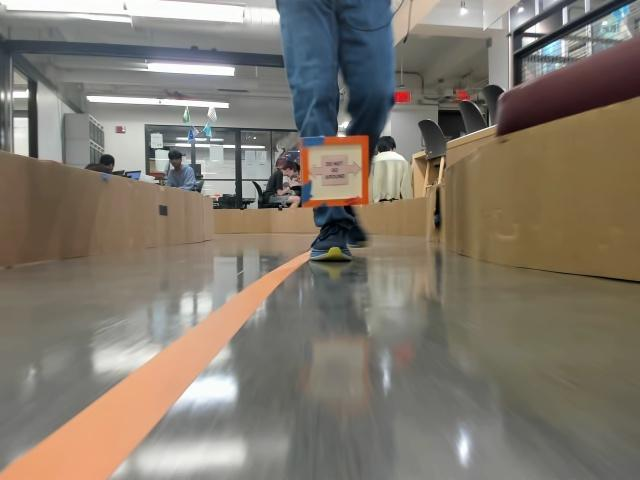Do Not Go Around: (309, 155, 359, 186)
